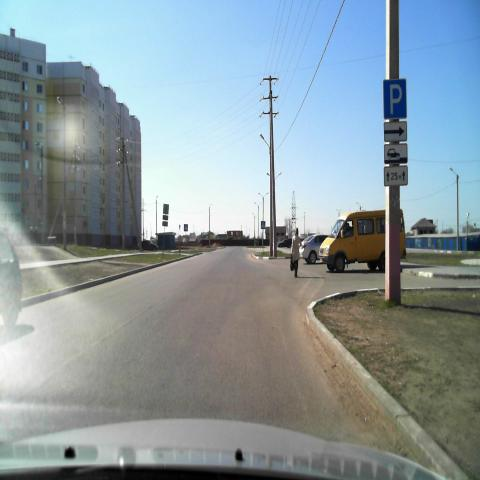6_4: (384, 78, 406, 118)
8_3_1: (383, 122, 407, 142)
8_6_4: (384, 144, 408, 163)
